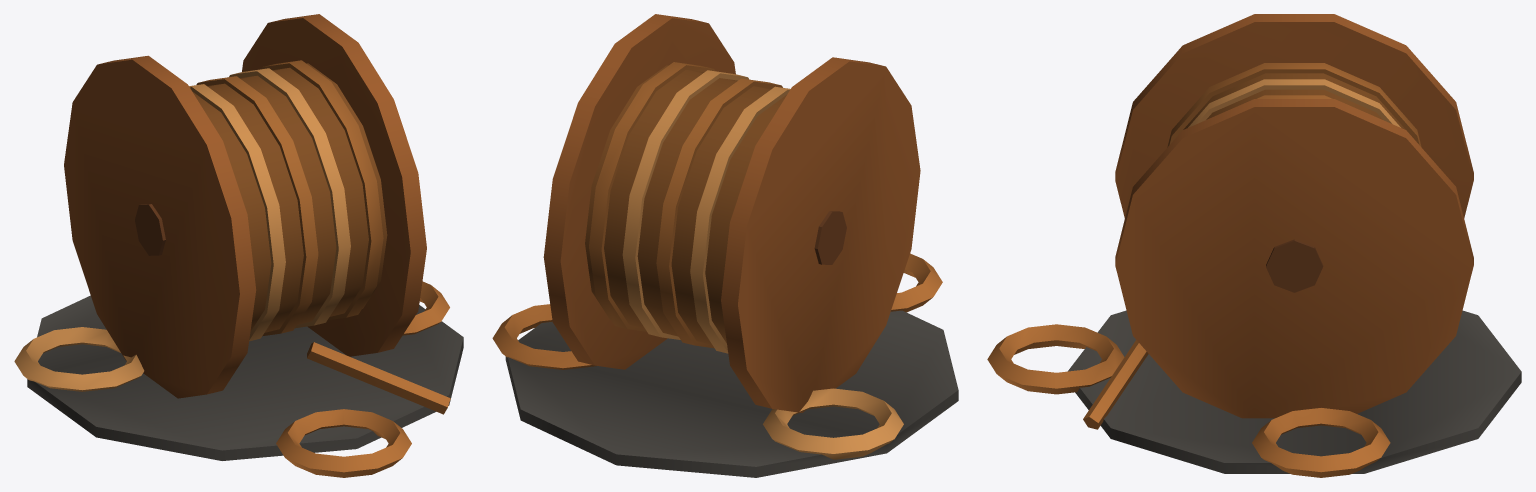
The model's file is n_copper.glb.
The picture shows the model from 3 angles, left to right: view 1: azimuth 30°, elevation 25°; view 2: azimuth 150°, elevation 25°; view 3: azimuth 270°, elevation 25°; orthographic projection. The views are drawn at different scales.
Parts seen in each view (by area): view 1: body; view 2: body; view 3: body.
Part boxes in pixels (bbox=[...]): body: bbox=[14, 14, 463, 477]; body: bbox=[492, 14, 958, 477]; body: bbox=[987, 14, 1521, 477].
Bounding box in the file's own units: 1.96 × 1.49 × 2.23.
